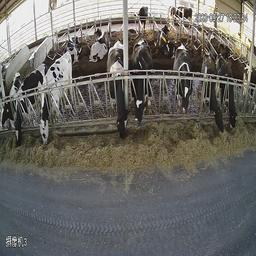cow: (40, 52, 73, 145), (15, 58, 42, 146), (109, 37, 128, 140), (202, 48, 225, 130), (129, 35, 150, 119), (174, 41, 194, 114), (224, 54, 240, 128), (0, 70, 17, 129), (158, 21, 175, 59), (93, 24, 108, 62), (134, 3, 149, 34), (68, 30, 81, 63), (176, 3, 193, 28), (167, 1, 175, 21)
